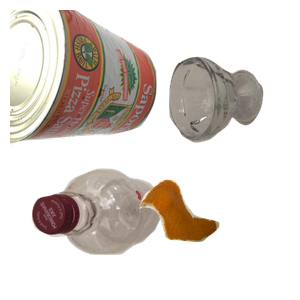glass: (166, 54, 300, 189)
metal: (10, 10, 159, 152)
plastic: (29, 166, 183, 300)
trash: (137, 177, 300, 300)
